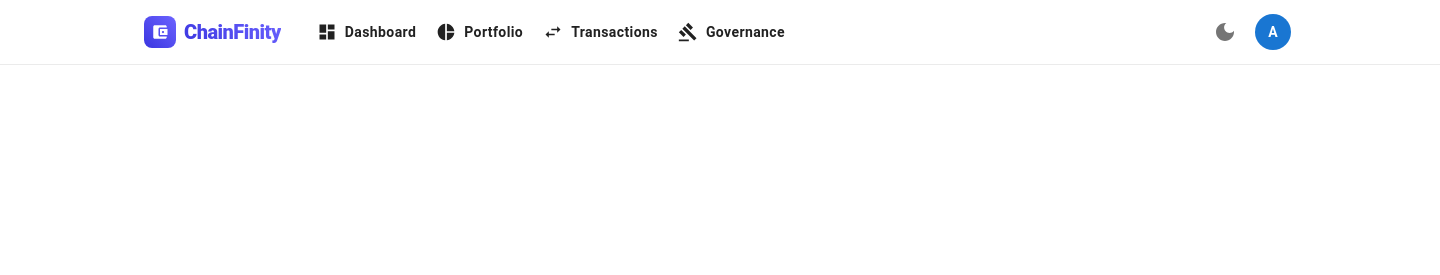
Test: Navbar Component › opens account menu on avatar click
The image size is (1440, 275).
What coordinates should you click on to do the following:
click the button named "Account"
I would click on:
 (1273, 32)
Its box is left=1250, top=9, right=1296, bottom=55.
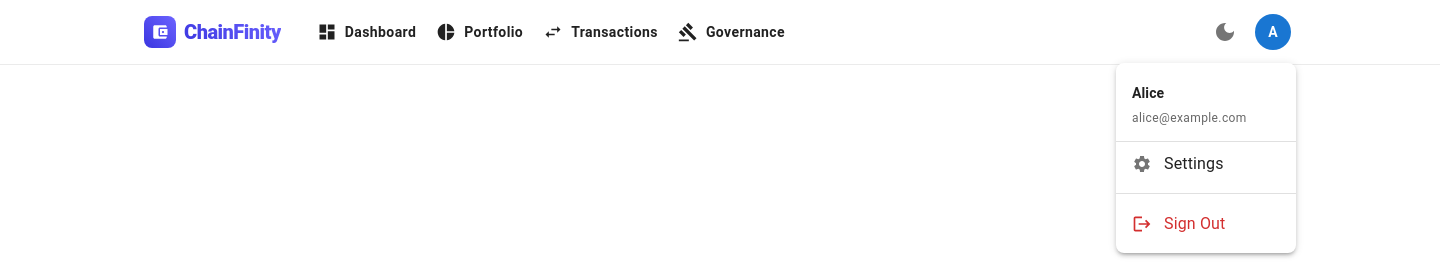
Result: the menu item "Sign Out" is shown at left=1132, top=214, right=1226, bottom=234
